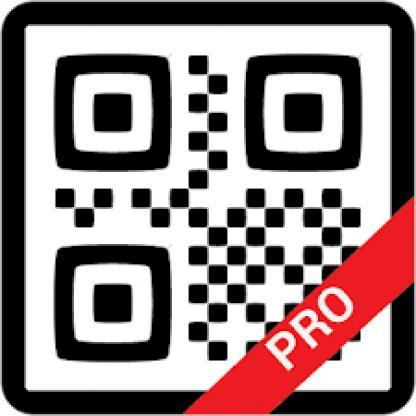qr_code: (53, 54, 364, 362)
